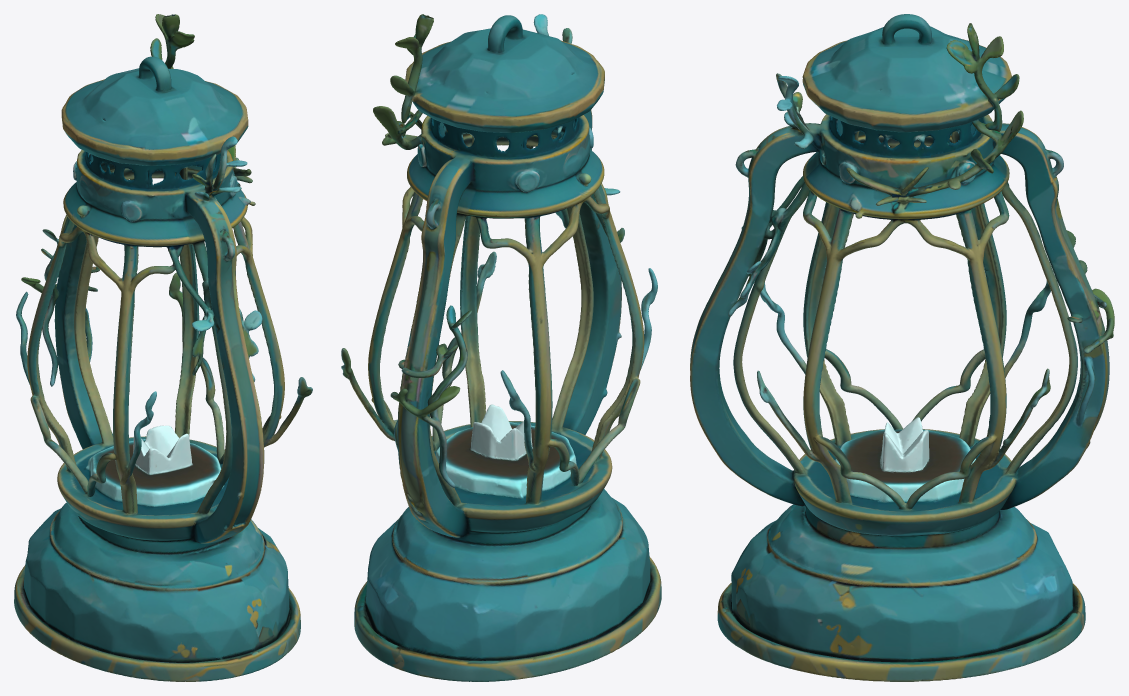
The model's file is lantern.glb.
3 views of the same model, side by side, from view 1: azimuth 30°, elevation 25°; view 2: azimuth 150°, elevation 25°; view 3: azimuth 270°, elevation 25° (orthographic). The views are drawn at different scales.
Visible parts, largest first — view 1: tripo_node_3f6793f8-c45e-44a8-aac7-6825420bc076; view 2: tripo_node_3f6793f8-c45e-44a8-aac7-6825420bc076; view 3: tripo_node_3f6793f8-c45e-44a8-aac7-6825420bc076.
Part boxes in pixels (box(x1,y1,x2,y2)): tripo_node_3f6793f8-c45e-44a8-aac7-6825420bc076: box(14, 14, 312, 681); tripo_node_3f6793f8-c45e-44a8-aac7-6825420bc076: box(341, 14, 661, 681); tripo_node_3f6793f8-c45e-44a8-aac7-6825420bc076: box(690, 14, 1114, 681).
Bounding box in the file's own units: 5.06 × 11.74 × 7.3.
1 material, 1 textured.
